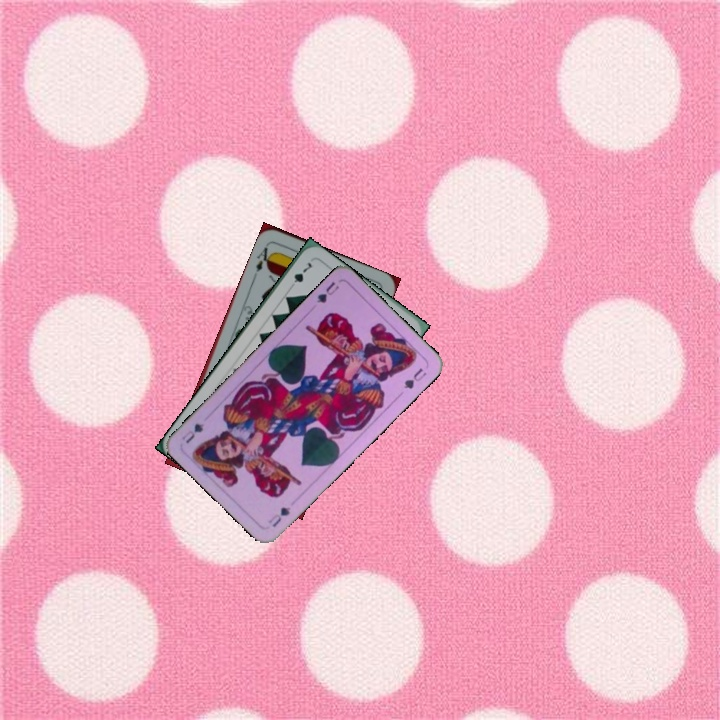EA: (250, 240, 276, 279)
G7: (286, 258, 314, 292)
GU: (313, 278, 342, 306), (264, 503, 293, 530)
